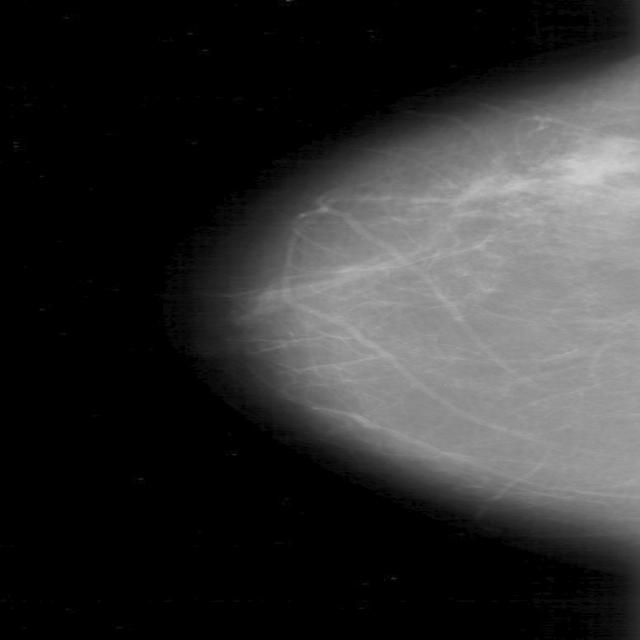tumour: (543, 130, 638, 183)
